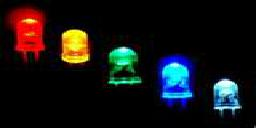LED: (155, 54, 195, 107), (11, 12, 46, 62), (106, 46, 141, 89), (209, 77, 245, 118), (59, 27, 92, 70)
